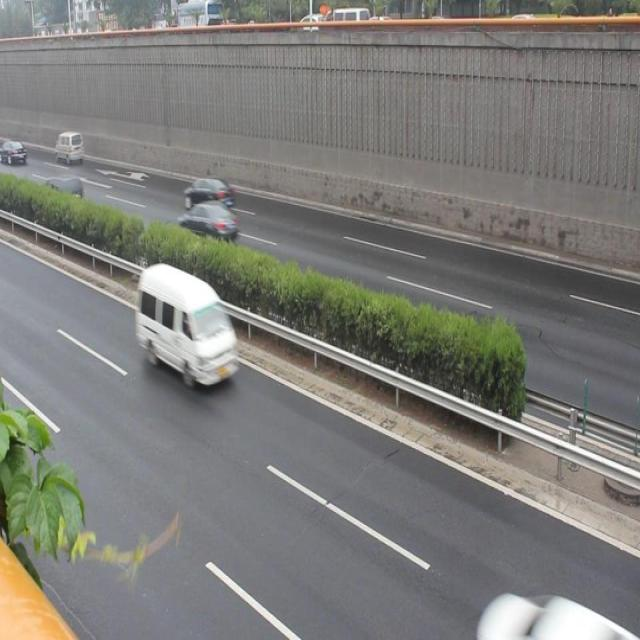car: (178, 194, 240, 252), (180, 170, 240, 214)
truck: (130, 260, 241, 394)
